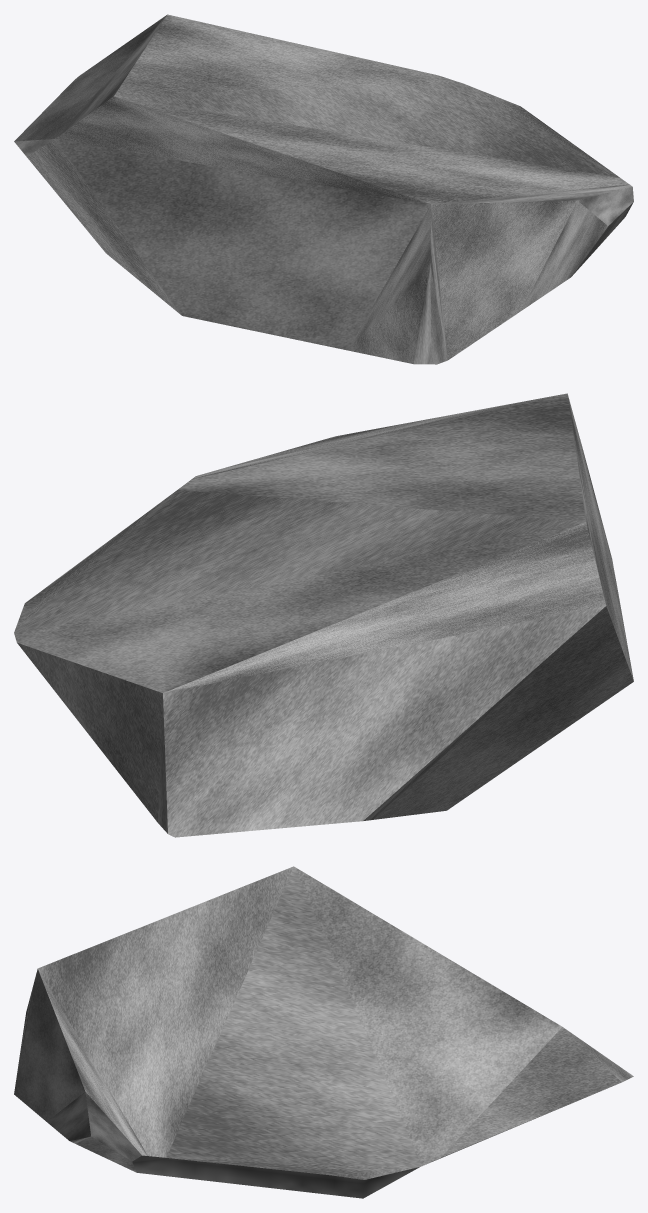
The model's file is body_cell_032.fbx.
3 views of the same model, one above another, from view 1: azimuth 30°, elevation 25°; view 2: azimuth 150°, elevation 25°; view 3: azimuth 270°, elevation 25° (orthographic). The views are drawn at different scales.
Parts seen in each view (by area): view 1: body_cell.032; view 2: body_cell.032; view 3: body_cell.032.
Boxes of the visible parts, bbox=[...] form: body_cell.032: bbox=[14, 14, 633, 364]; body_cell.032: bbox=[14, 393, 633, 837]; body_cell.032: bbox=[14, 866, 633, 1198].
Size of the model in its own units: 51.49 by 24.48 by 66.77.
